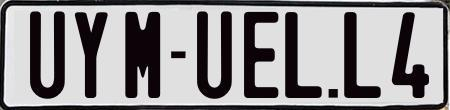4: (392, 12, 430, 101)
E: (244, 9, 280, 97)
L: (282, 11, 325, 98), (341, 10, 383, 99)
M: (122, 12, 162, 101)
U: (194, 10, 233, 103), (30, 11, 68, 104)
Y: (73, 12, 110, 101)
